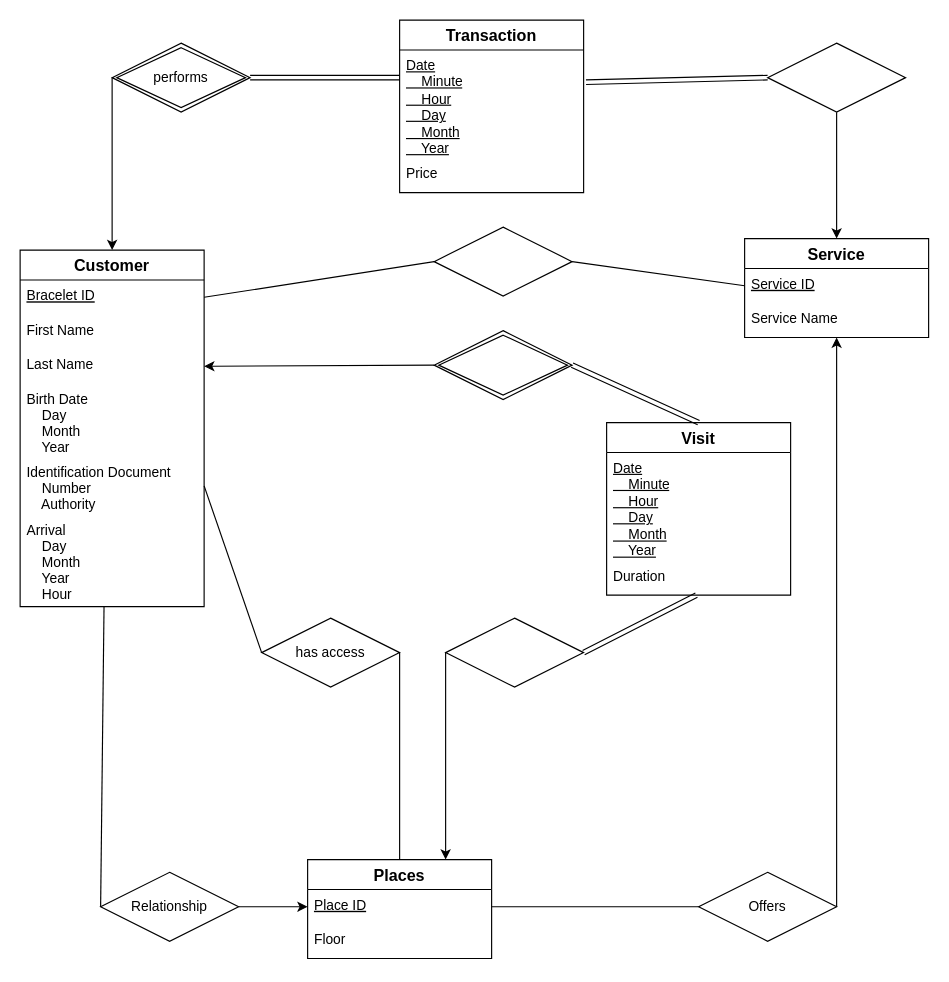
Some shapes in this 949 by 982 pixel diagram are drawn without their labels. The shapes that lost their labels are listed below. From the top down, each one's centre as x and y in pixels, then its label:
At pixel 836 77: "for service".
At pixel 502 261: "Register".
At pixel 502 364: "makes".
At pixel 514 652: "at".
